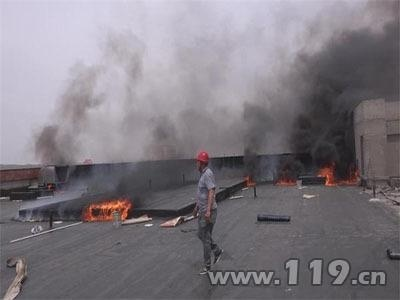fire: (82, 195, 134, 223), (317, 163, 360, 185), (276, 175, 298, 187), (242, 173, 256, 187)
